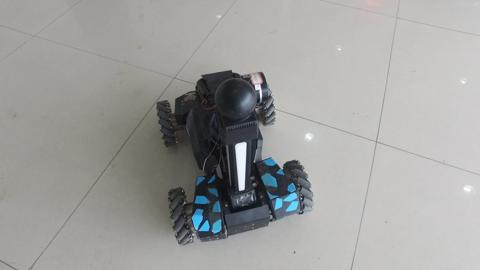chariot: (113, 38, 323, 250)
